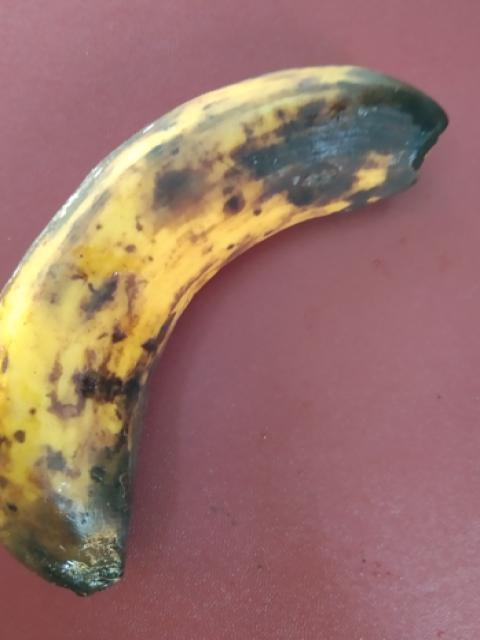rotten: (0, 54, 454, 601)
